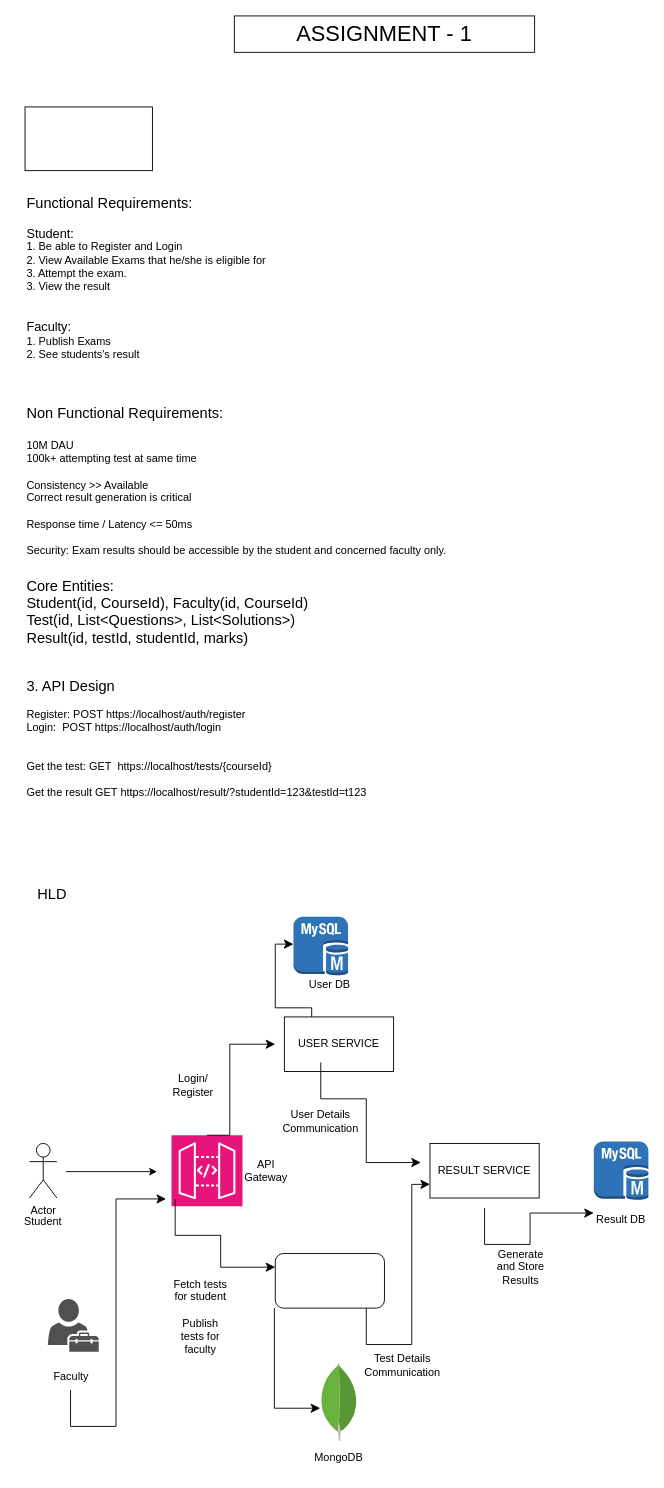
Some shapes in this 664 by 1488 pixel diagram are drawn without their labels. The centre of each missing label's shape, as x and y in pixels:
"Submitted By: Name : Shubham UID: 23BCS13887" belongs at point 88,138.
"TEST SERVICE" belongs at point 329,1280.
